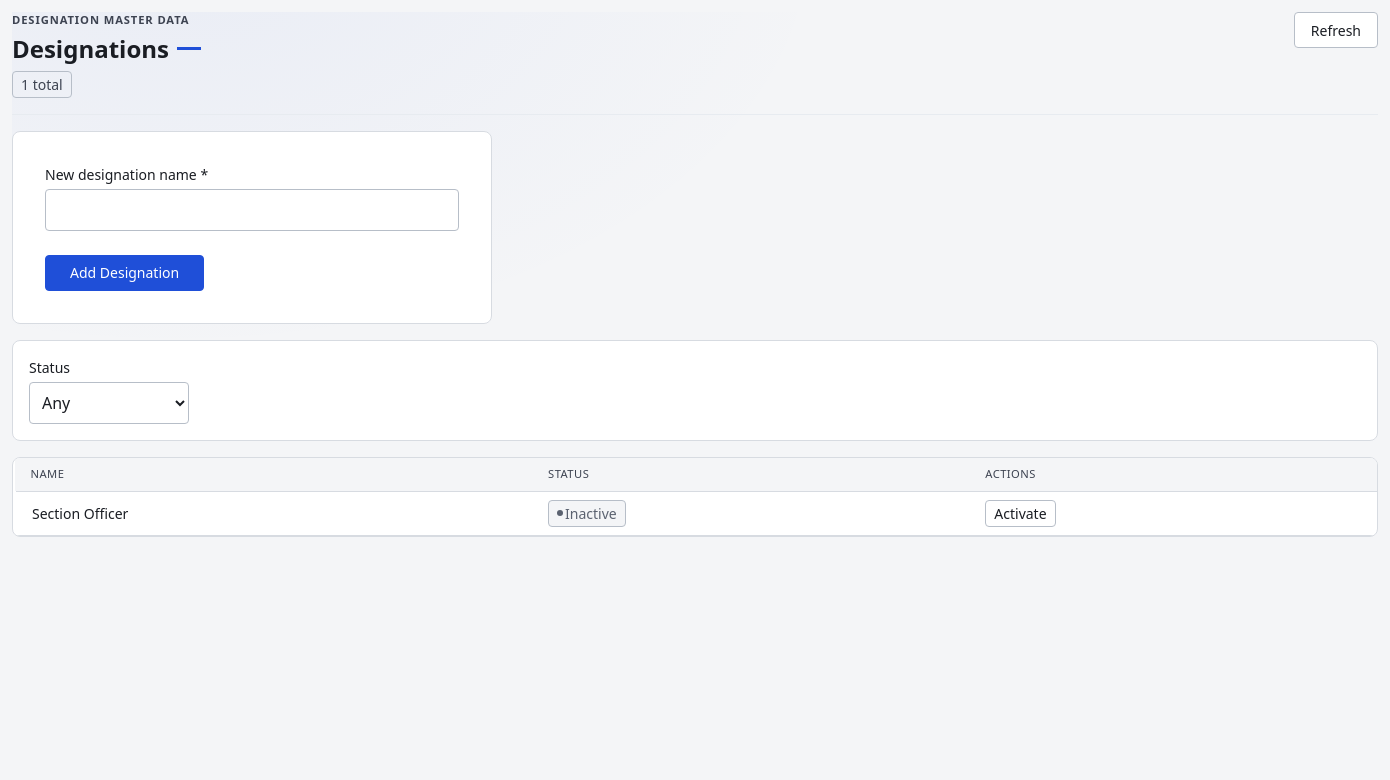
Scenario: DesignationListPage › activates an inactive designation directly, with no confirmation dialog
Expected: the column heading "Section Officer" is shown, [14, 491, 532, 535]
Click the button "Activate" at point(1020, 513), box [985, 500, 1056, 527]
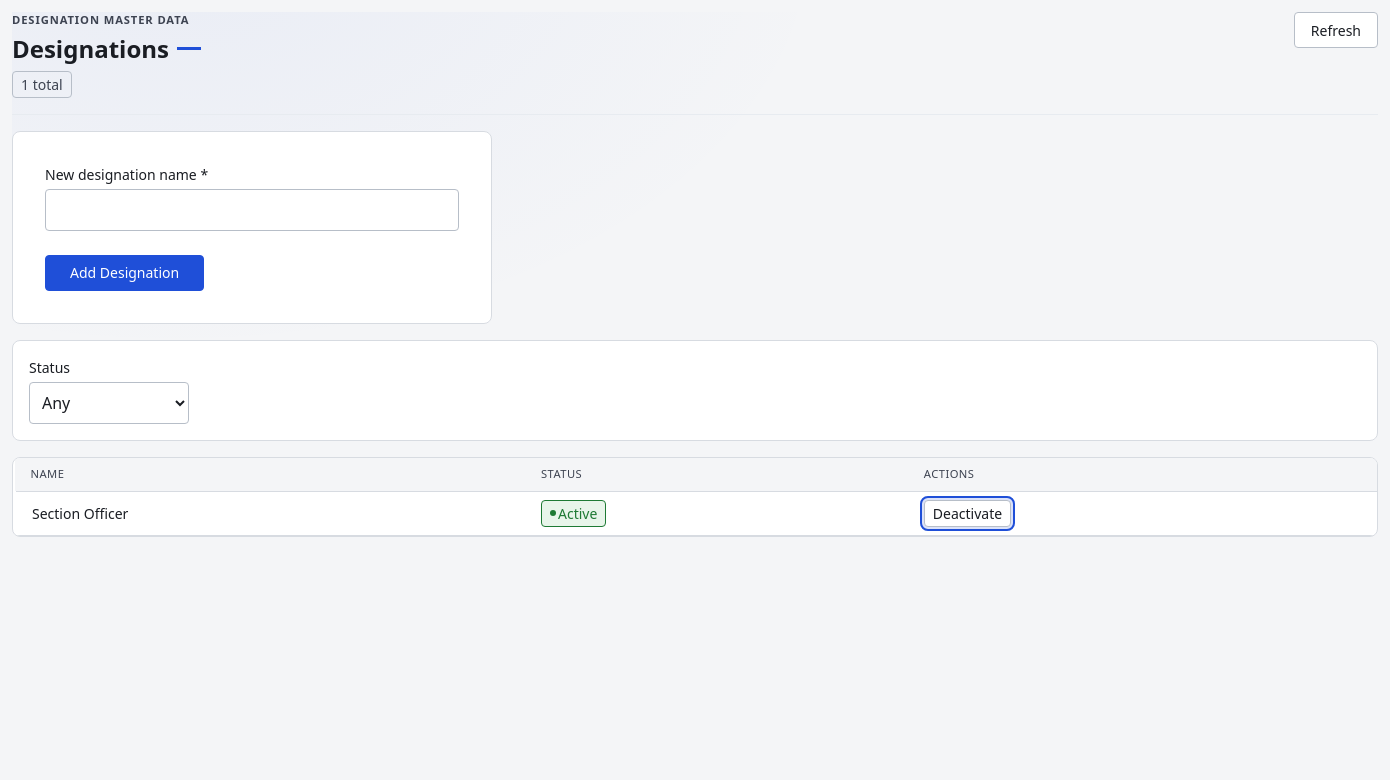
Result: the button "Deactivate" is shown at [924, 500, 1011, 527]
